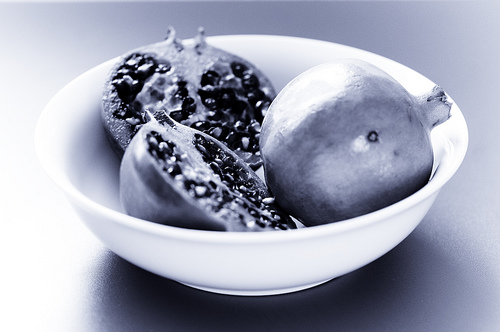pomogranate: (258, 58, 454, 224), (100, 23, 279, 174), (117, 104, 307, 231)
